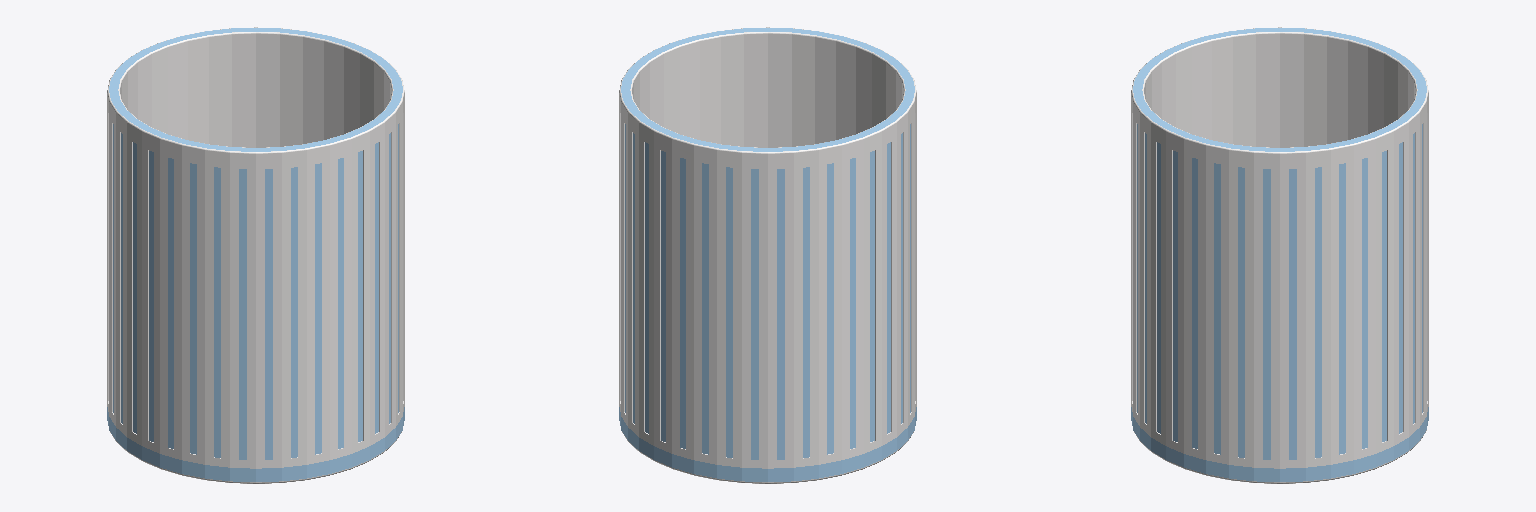
File: 垃圾桶.obj
The picture shows the model from 3 angles: view 1: azimuth 30°, elevation 25°; view 2: azimuth 150°, elevation 25°; view 3: azimuth 270°, elevation 25°; orthographic projection.
Parts seen in each view (by area): view 1: 垃圾桶; view 2: 垃圾桶; view 3: 垃圾桶.
Boxes of the visible parts, <box> form: 垃圾桶: <box>107,27,404,483</box>; 垃圾桶: <box>619,27,916,483</box>; 垃圾桶: <box>1131,27,1428,483</box>.
Bounding box in the file's own units: 159 × 196 × 159.